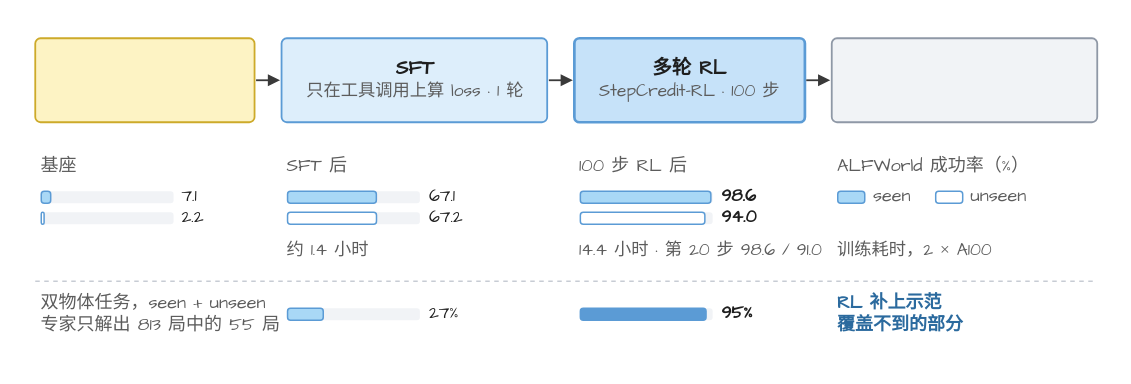
Image size: 1131x384. Some labels were removed from this diagram. The shapes that lost their labels are listed below. From the top down, each one's centre as x and y in pixels, then its label:
At (144,79): "专家示范 解出 2,145 / 3,553 局".
At (963,79): "配对评测 同一批任务 · McNemar 检验".
